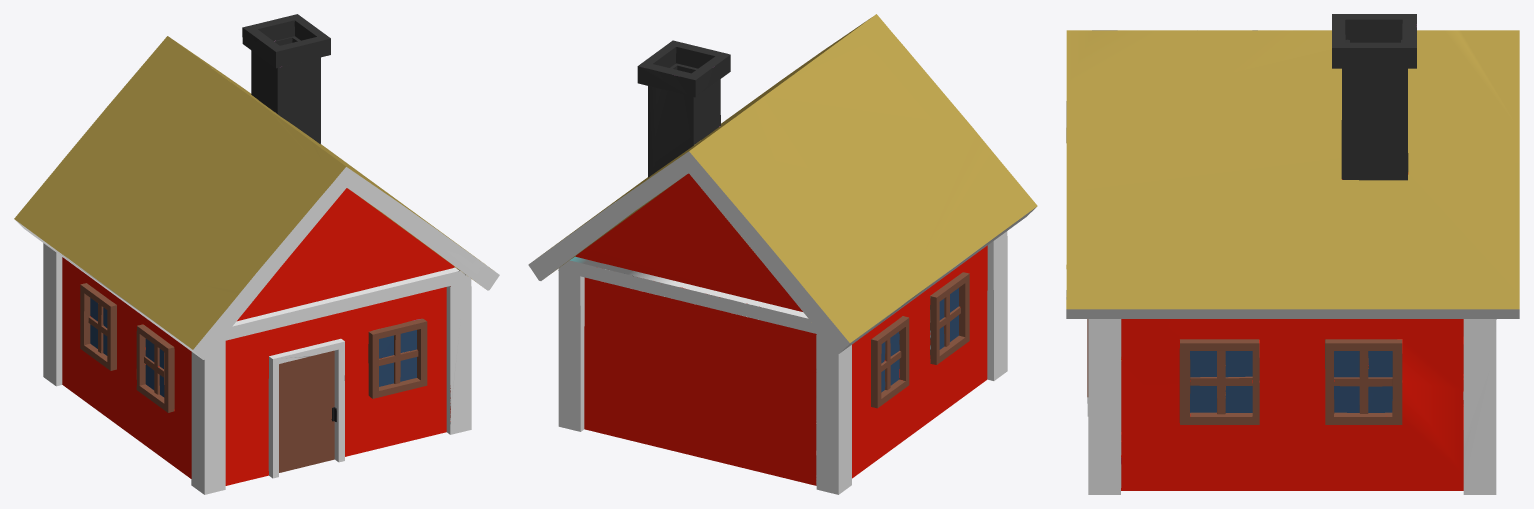
File: Farmhouse.glb
3 views of the same model, side by side, from view 1: azimuth 30°, elevation 25°; view 2: azimuth 150°, elevation 25°; view 3: azimuth 270°, elevation 25° (orthographic). The views are drawn at different scales.
Visible parts, largest first — view 1: model; view 2: model; view 3: model.
Boxes of the visible parts, left/top/right/bottom form: model: left=14, top=14, right=499, bottom=494; model: left=528, top=14, right=1037, bottom=494; model: left=1066, top=14, right=1519, bottom=494.
Size of the model in its own units: 1.7 by 1.75 by 1.71.
1 material, 1 textured.
